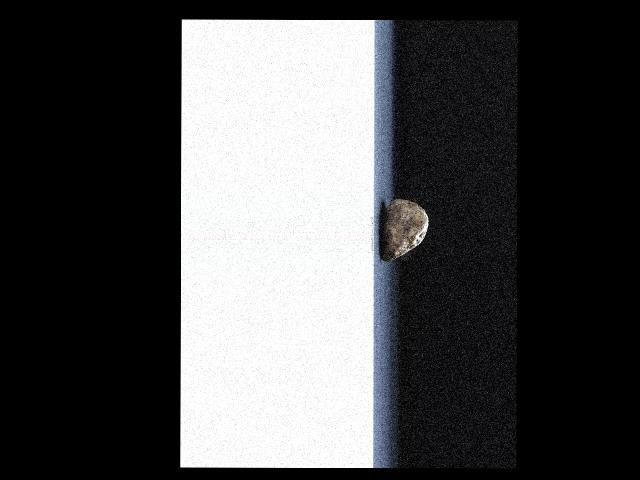beet: (381, 197, 427, 260)
